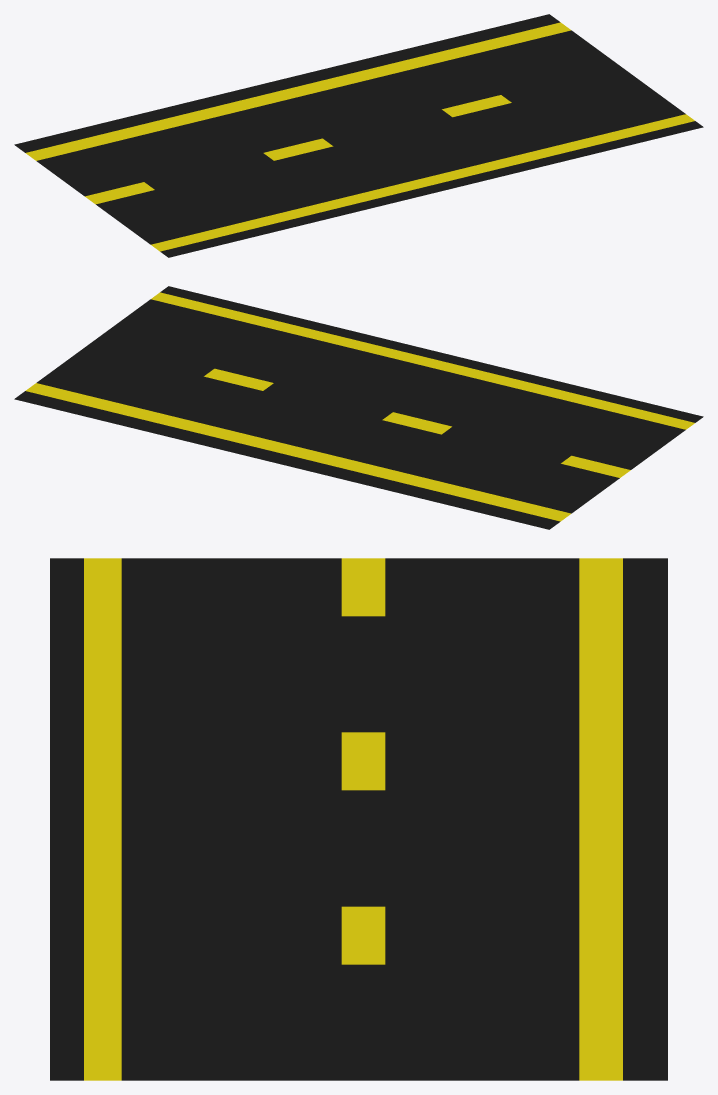
The model's file is path_1_1.dae.
3 views of the same model, one above another, from view 1: azimuth 30°, elevation 25°; view 2: azimuth 150°, elevation 25°; view 3: azimuth 270°, elevation 25° (orthographic). The views are drawn at different scales.
Parts seen in each view (by area): view 1: Plane; view 2: Plane; view 3: Plane.
Boxes of the visible parts, x1,y1,x2,y2 form: Plane: [14, 14, 703, 257]; Plane: [14, 286, 703, 529]; Plane: [50, 558, 667, 1080].
Bounding box in the file's own units: 4 × 2 × 0.
